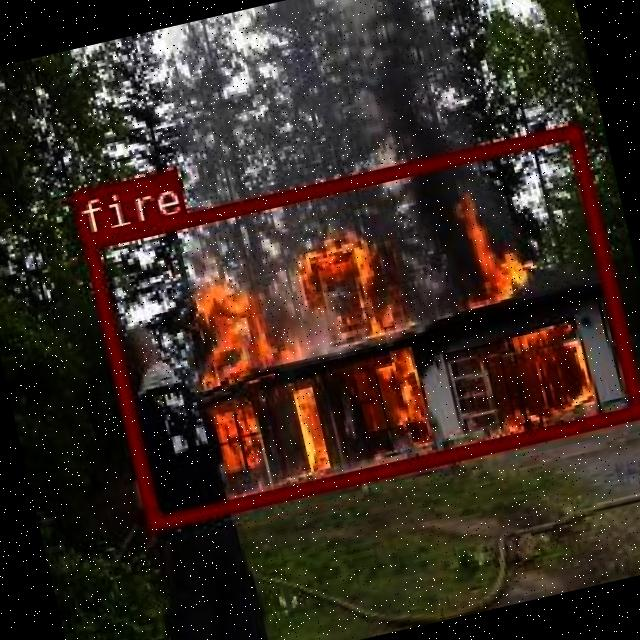fire: (78, 122, 640, 529)
